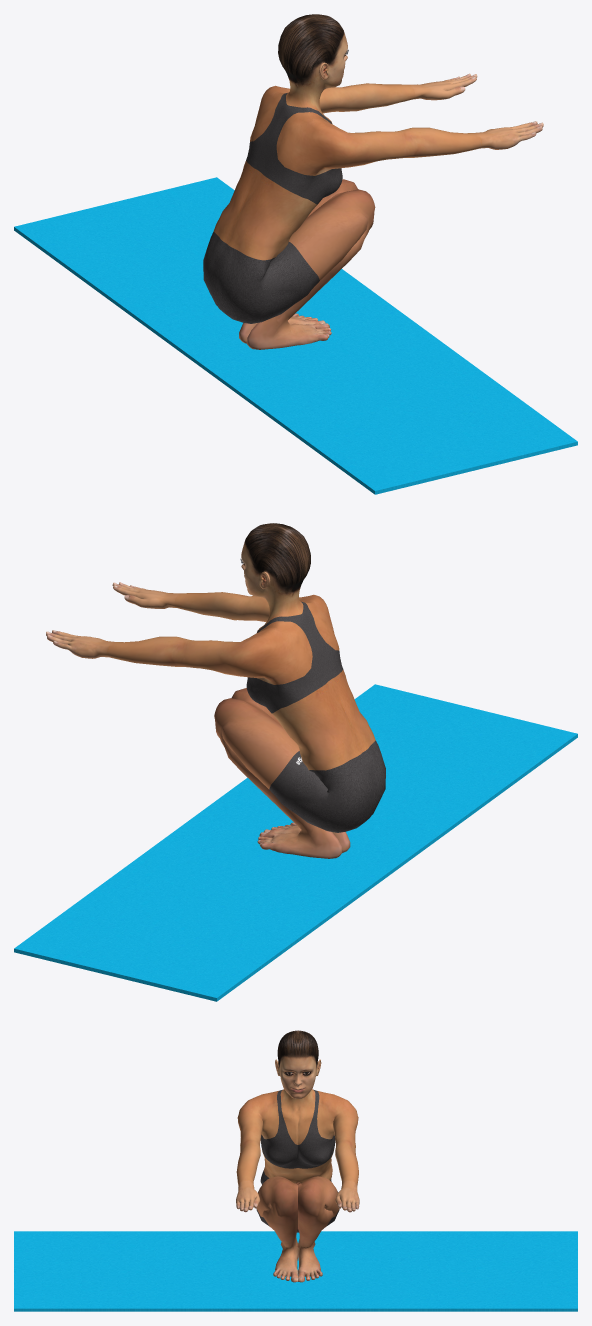
Rendered from malasana.glb.
3 renders of one model, top to bottom at view 1: azimuth 30°, elevation 25°; view 2: azimuth 150°, elevation 25°; view 3: azimuth 270°, elevation 25°, orthographic. The views are drawn at different scales.
Parts seen in each view (by area): view 1: Mat-one-piece_jpg-material, Lily_Texture01_06_2016_jpg-material; view 2: Mat-one-piece_jpg-material, Lily_Texture01_06_2016_jpg-material; view 3: Mat-one-piece_jpg-material, Lily_Texture01_06_2016_jpg-material.
Part boxes in pixels (<box>): Mat-one-piece_jpg-material: <box>14,177,577,494</box>; Lily_Texture01_06_2016_jpg-material: <box>203,14,543,349</box>; Mat-one-piece_jpg-material: <box>14,684,577,1001</box>; Lily_Texture01_06_2016_jpg-material: <box>46,523,385,858</box>; Mat-one-piece_jpg-material: <box>14,1231,577,1311</box>; Lily_Texture01_06_2016_jpg-material: <box>236,1030,359,1282</box>.
Size of the model in its own units: 3.12 by 2.97 by 6.17.
Materials: 3 (2 with a texture image).
